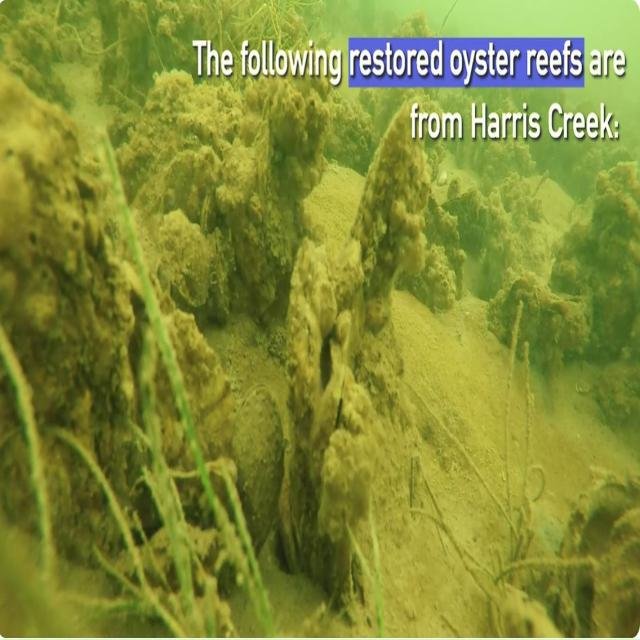Oyster- Indeterminate: (0, 66, 134, 579), (351, 104, 430, 331), (556, 163, 640, 356), (143, 311, 236, 473), (232, 386, 284, 552), (108, 528, 231, 586), (319, 428, 378, 542), (127, 469, 217, 543), (158, 209, 212, 312), (538, 287, 589, 372), (171, 95, 230, 158), (226, 205, 264, 284), (148, 0, 189, 71), (15, 11, 59, 67), (162, 150, 195, 218), (1, 44, 45, 95), (207, 459, 238, 514)
Oyster-Closed: (246, 86, 276, 219), (208, 227, 234, 325)
Oyster-Open: (281, 240, 371, 591), (560, 476, 640, 636), (310, 362, 349, 495), (498, 280, 540, 359), (442, 179, 486, 228), (52, 18, 92, 61), (108, 110, 136, 148), (200, 185, 219, 236)
